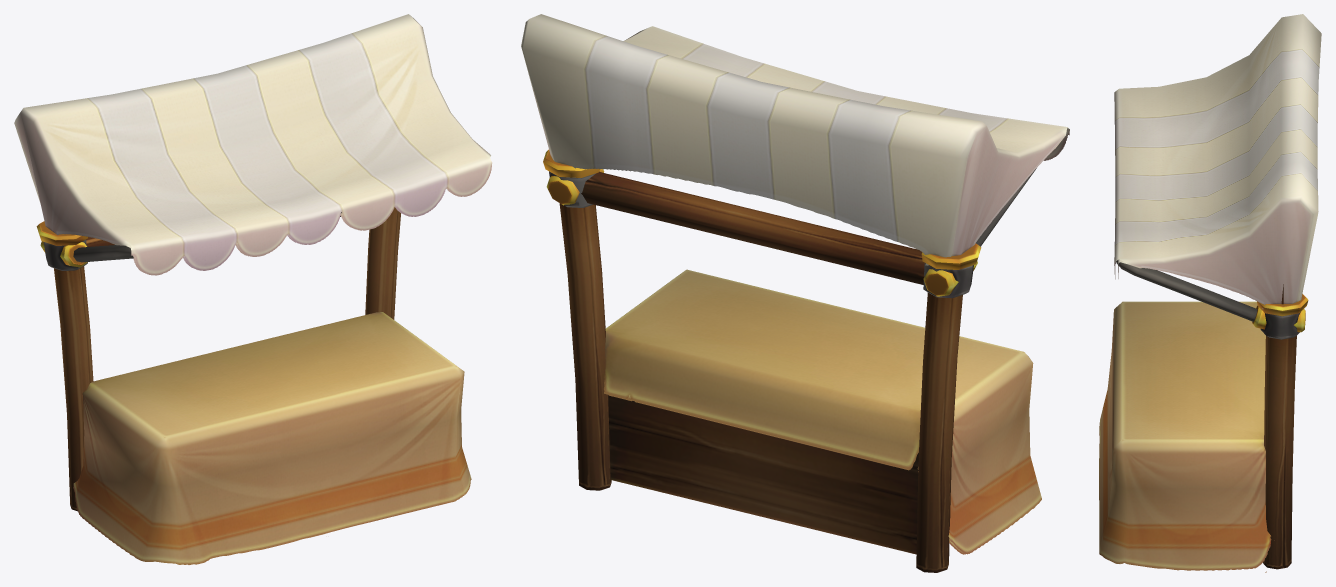
The model's file is SE_Booth_01.fbx.
3 renders of one model, left to right at view 1: azimuth 30°, elevation 25°; view 2: azimuth 150°, elevation 25°; view 3: azimuth 270°, elevation 25°, orthographic. The views are drawn at different scales.
Visible parts, largest first — view 1: SE_Booth_01; view 2: SE_Booth_01; view 3: SE_Booth_01.
Part boxes in pixels (x1,y1,x2,y2): SE_Booth_01: (14, 14, 492, 564); SE_Booth_01: (521, 14, 1069, 572); SE_Booth_01: (1099, 14, 1321, 572).
Size of the model in its own units: 5.92 by 5.81 by 3.02.
